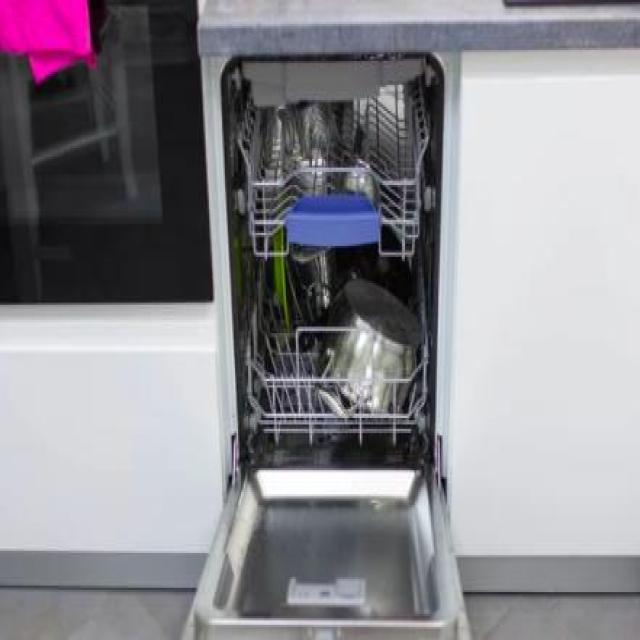dishwasher: (180, 48, 476, 640)
